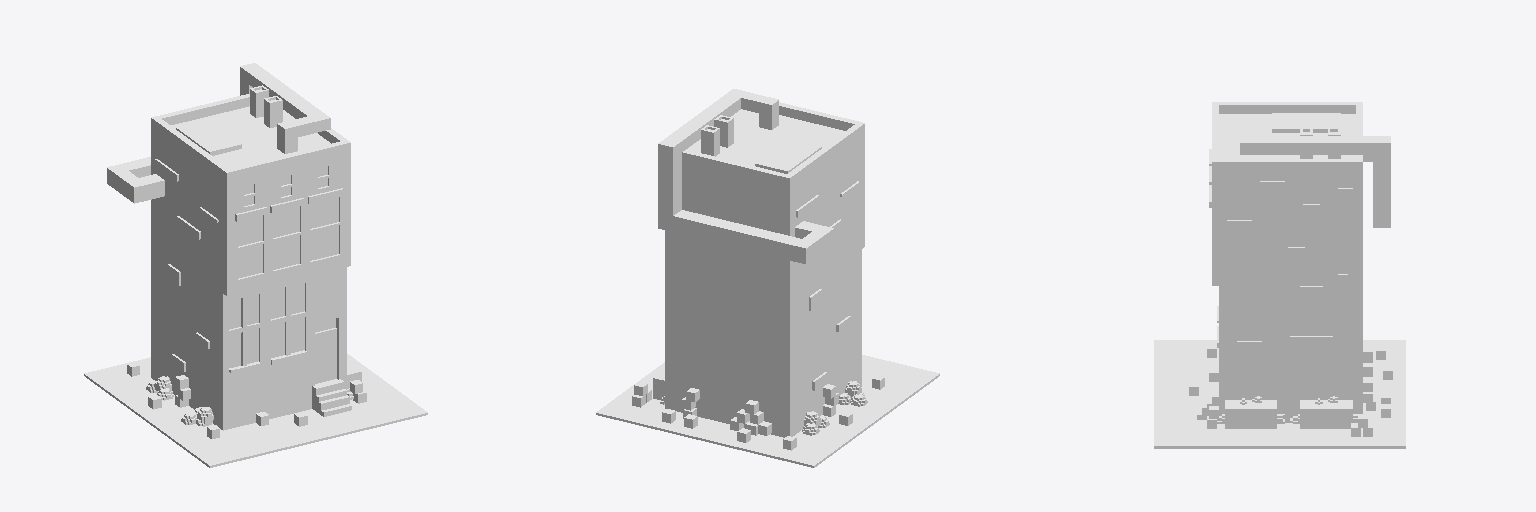
The model's file is building5.obj.
3 views of the same model, side by side, from view 1: azimuth 30°, elevation 25°; view 2: azimuth 150°, elevation 25°; view 3: azimuth 270°, elevation 25° (orthographic).
Parts seen in each view (by area): view 1: object 1; view 2: object 1; view 3: object 1.
Part boxes in pixels (left/top/right/bottom): object 1: left=84, top=63, right=427, bottom=467; object 1: left=596, top=89, right=939, bottom=467; object 1: left=1154, top=102, right=1405, bottom=448.
Size of the model in its own units: 10 by 12.2 by 10.